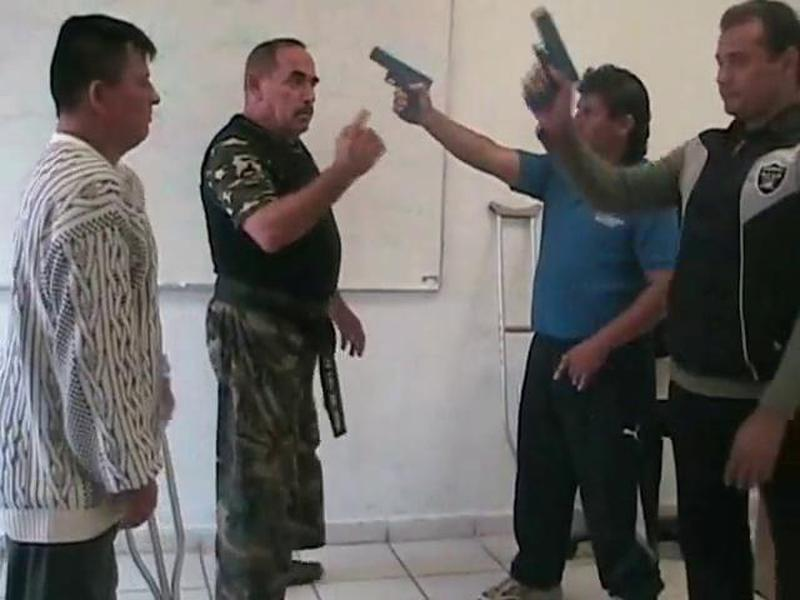Pistola: (500, 1, 592, 119), (358, 47, 447, 129)
